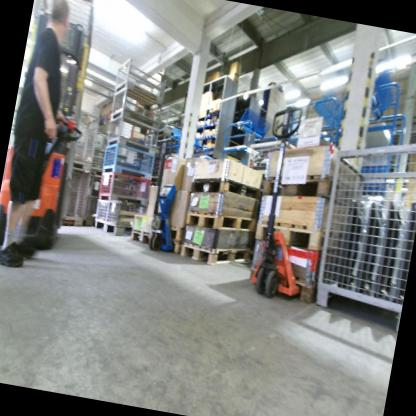pallet: (261, 163, 356, 211), (254, 215, 332, 255), (244, 266, 323, 301), (178, 236, 250, 271), (185, 204, 257, 238), (190, 171, 263, 201), (151, 217, 186, 241), (129, 224, 152, 244)
pallet_truck: (0, 3, 102, 264), (243, 101, 333, 300), (136, 130, 196, 259)
stillage: (305, 120, 416, 330), (24, 0, 101, 81), (108, 53, 172, 104), (90, 195, 150, 240), (104, 108, 162, 154), (99, 138, 158, 182), (69, 102, 104, 172), (59, 165, 93, 237), (94, 166, 153, 206), (108, 89, 165, 127), (77, 173, 108, 230), (85, 129, 111, 170)
